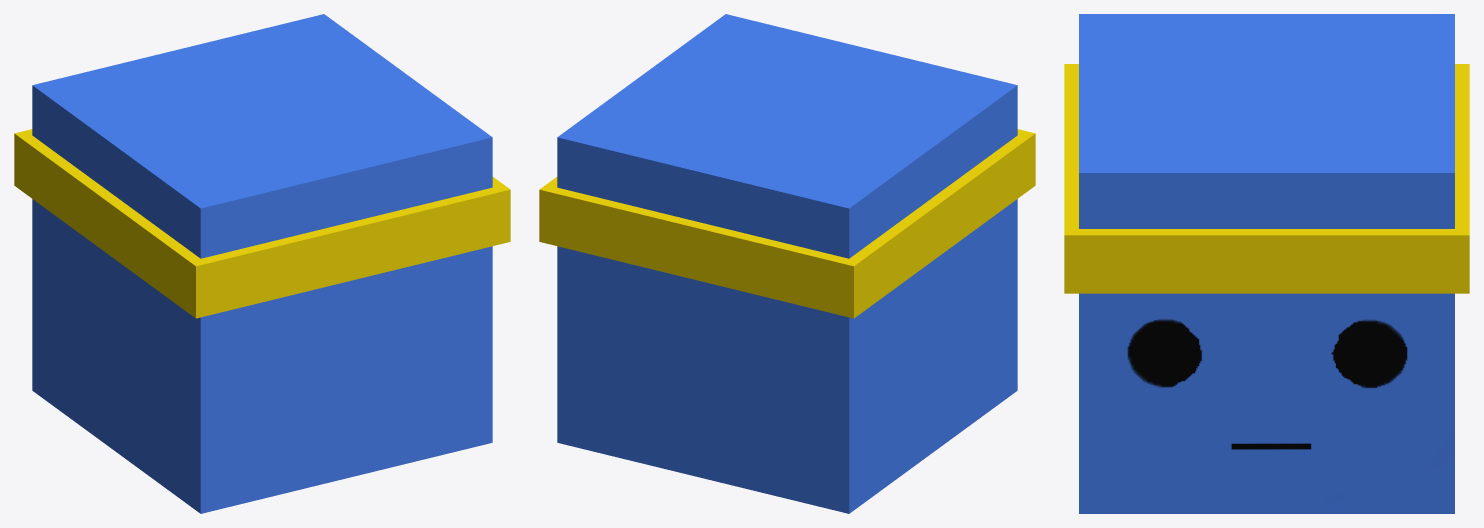
Rendered from agent.fbx.
3 renders of one model, left to right at view 1: azimuth 30°, elevation 25°; view 2: azimuth 150°, elevation 25°; view 3: azimuth 270°, elevation 25°, orthographic. The views are drawn at different scales.
Visible parts, largest first — view 1: Agent; view 2: Agent; view 3: Agent.
Part boxes in pixels (left/top/right/bottom): Agent: left=14, top=14, right=510, bottom=513; Agent: left=539, top=14, right=1035, bottom=513; Agent: left=1064, top=14, right=1469, bottom=513.
Size of the model in its own units: 2.16 by 2 by 2.16.
Materials: 1 (1 with a texture image).
